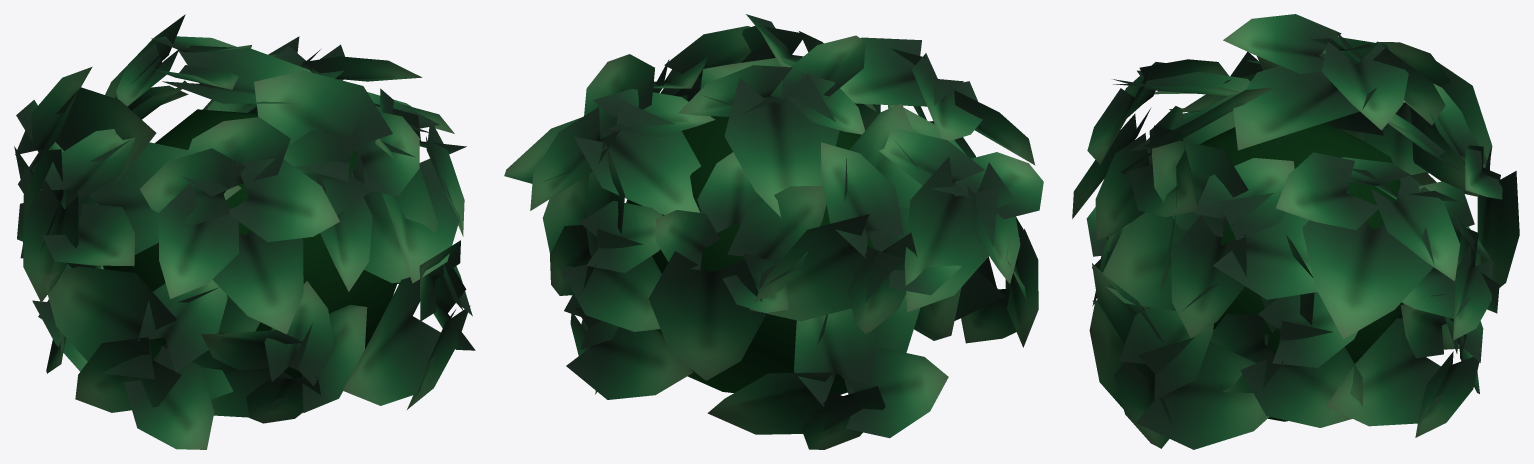
The model's file is Bush.fbx.
The picture shows the model from 3 angles, left to right: view 1: azimuth 30°, elevation 25°; view 2: azimuth 150°, elevation 25°; view 3: azimuth 270°, elevation 25°; orthographic projection. The views are drawn at different scales.
Visible parts, largest first — view 1: Bush; view 2: Bush; view 3: Bush.
Part boxes in pixels (x1,y1,x2,y2): Bush: [14, 14, 475, 449]; Bush: [504, 14, 1043, 449]; Bush: [1072, 14, 1519, 449].
Size of the model in its own units: 109 by 78.25 by 90.28.
Materials: 2 (1 with a texture image).
